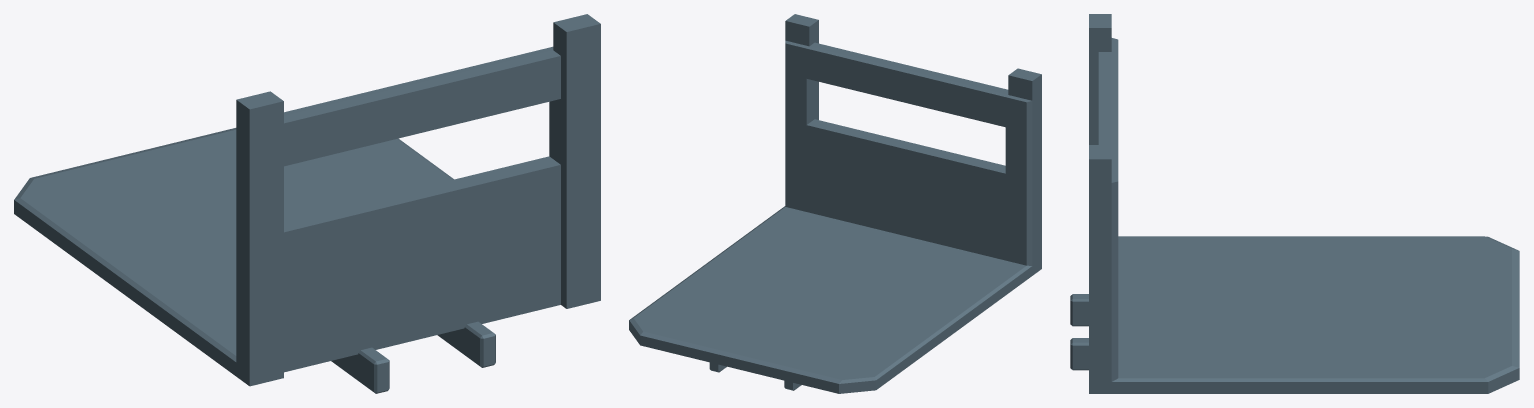
File: flat.glb
3 views of the same model, side by side, from view 1: azimuth 30°, elevation 25°; view 2: azimuth 150°, elevation 25°; view 3: azimuth 270°, elevation 25° (orthographic). The views are drawn at different scales.
Visible parts, largest first — view 1: Cube.2301_Outline.001_0; view 2: Cube.2301_Outline.001_0; view 3: Cube.2301_Outline.001_0.
Boxes of the visible parts, box(x1,y1,x2,y2) form: Cube.2301_Outline.001_0: box(14, 14, 600, 393); Cube.2301_Outline.001_0: box(629, 14, 1041, 393); Cube.2301_Outline.001_0: box(1070, 14, 1519, 393).
Size of the model in its own units: 3.04 by 2.53 by 3.98.
